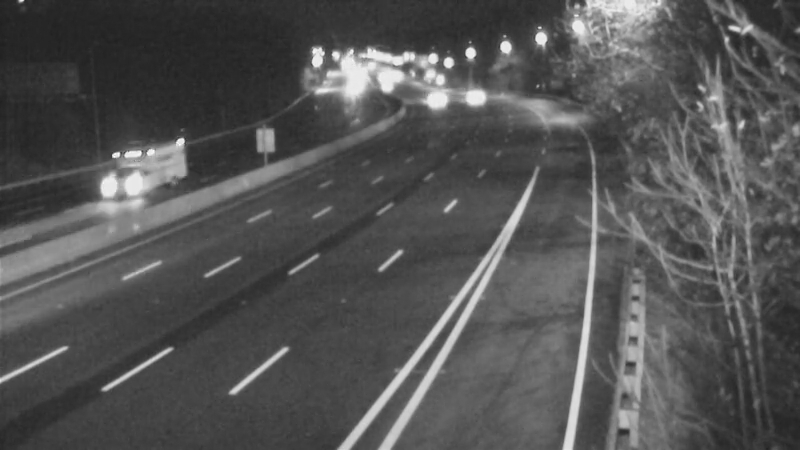vehicle: (94, 142, 174, 222), (364, 59, 414, 109), (443, 68, 493, 118), (402, 75, 452, 125)
